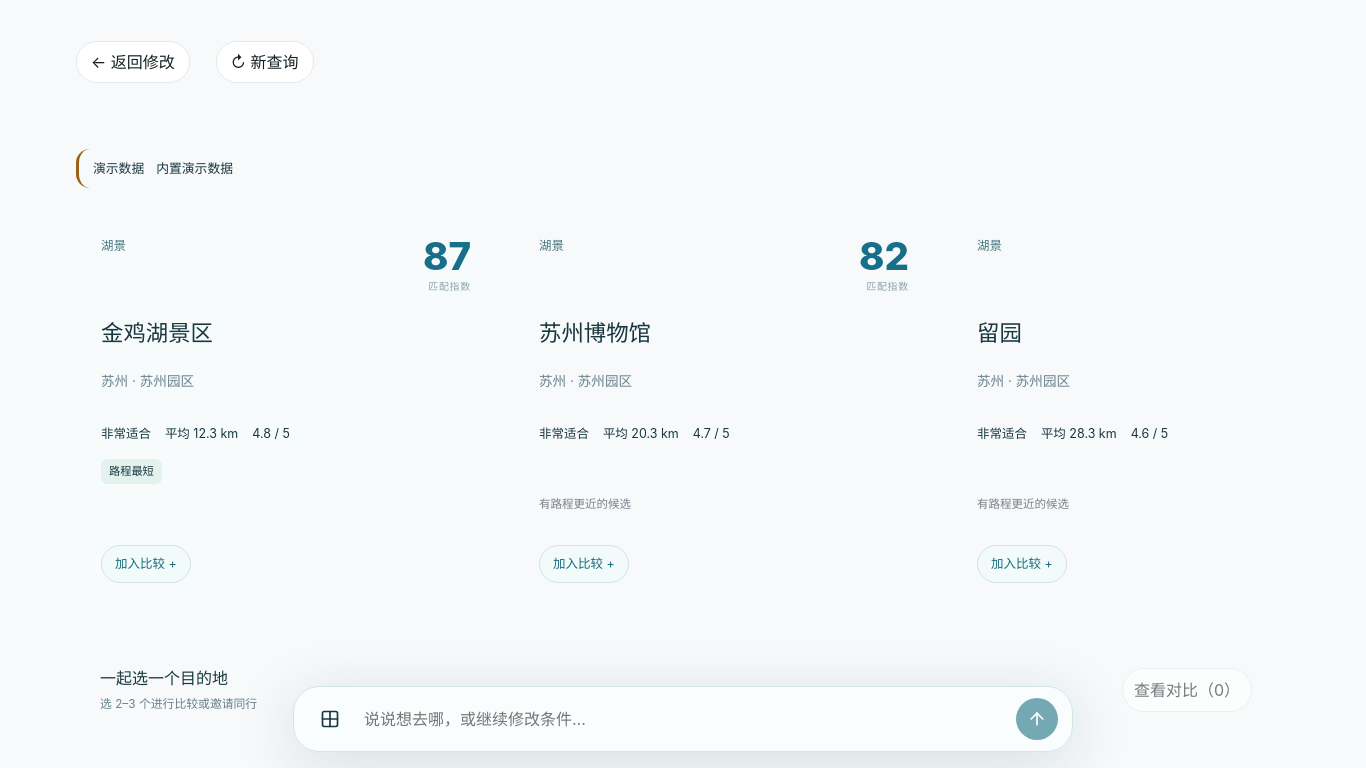
Scenario: layered destinations › opens details with weather expanded by default and exposes the conversation orb
The width and height of the screenshot is (1366, 768).
Click the button named "了解金鸡湖景区" at (286, 410), box [76,212,496,608]
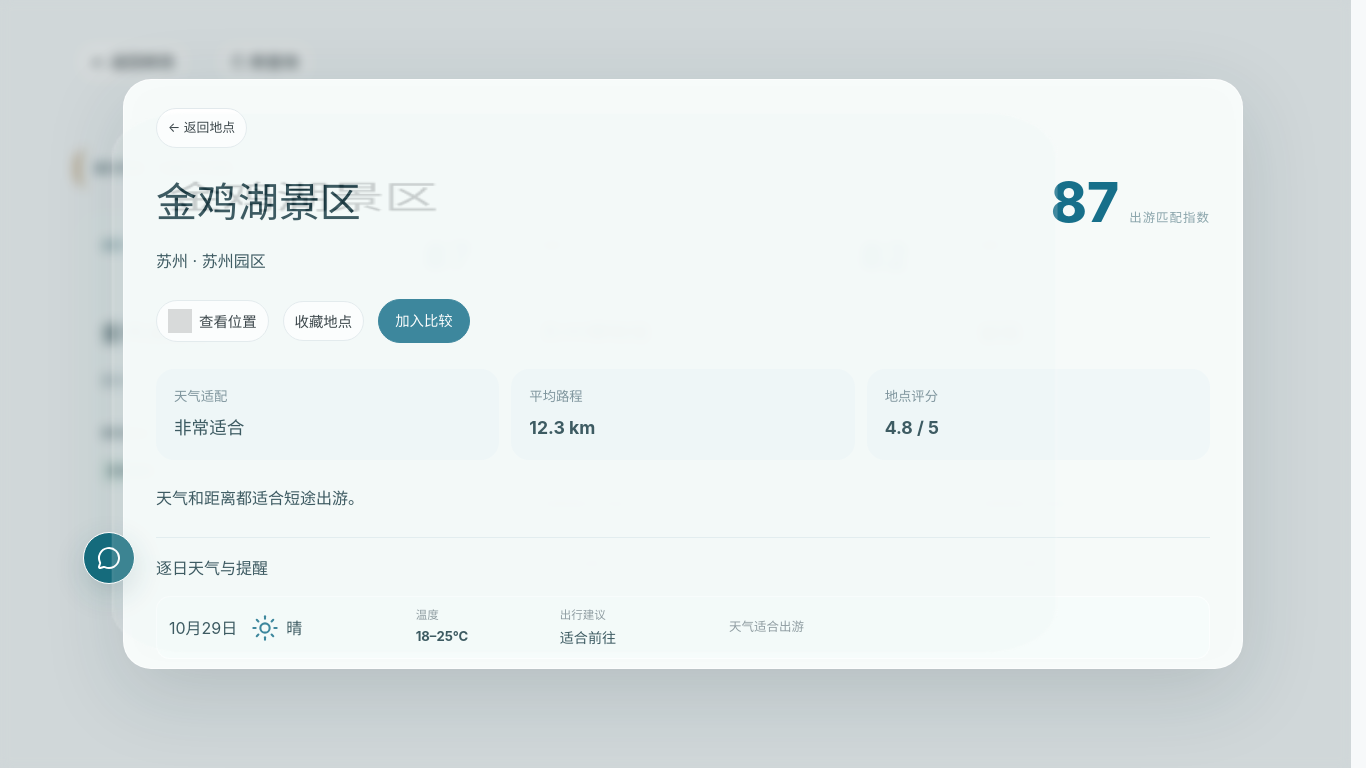
Check: the element named "金鸡湖景区详情" is shown
Check: the text "18–25°C" is shown, box [416,628,468,644]
Click the button named "打开详情对话" at (109, 558), box [83,532,135,584]
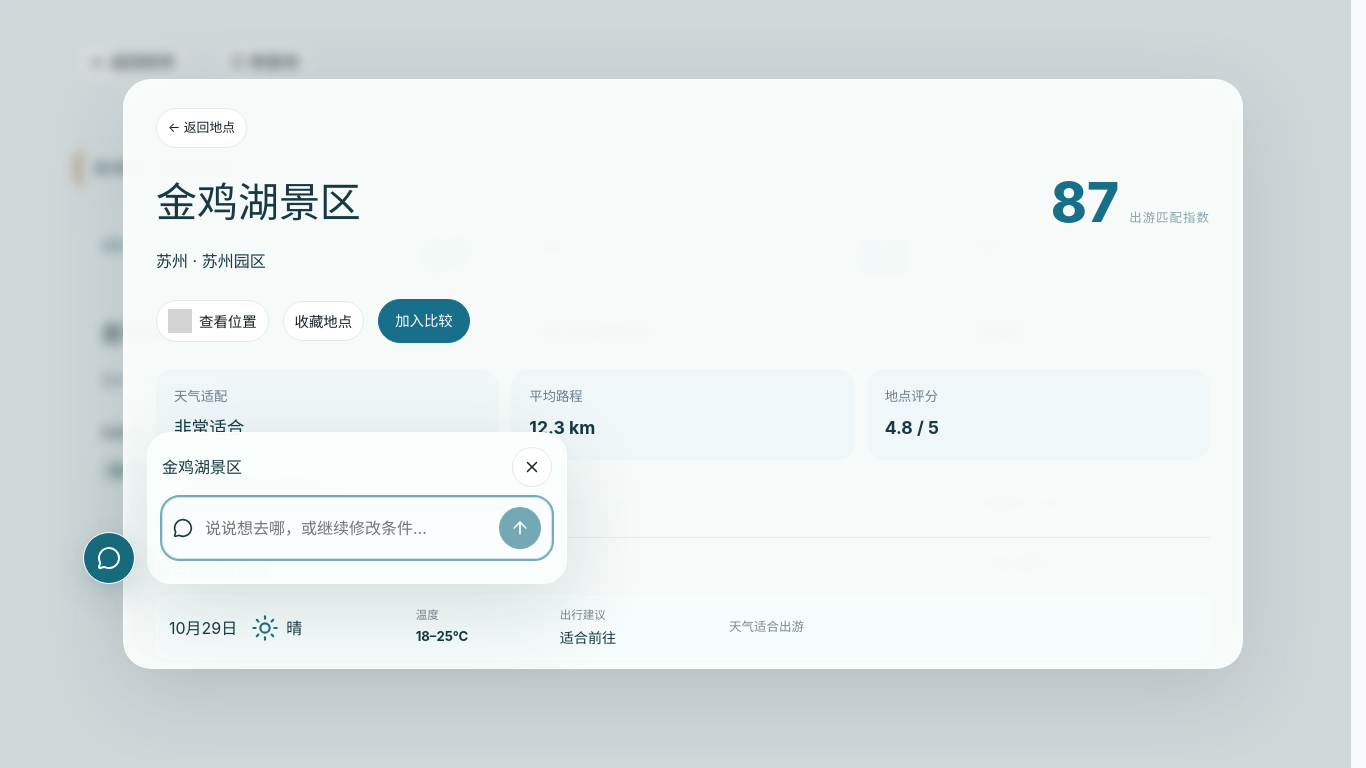
Check: the text box named "继续补充条件" is shown, box [205,506,487,550]
